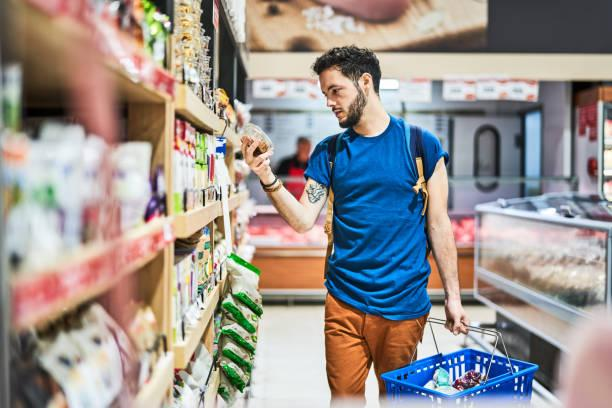article: (227, 254, 260, 316), (243, 123, 271, 156), (453, 370, 483, 390), (434, 368, 449, 385)
